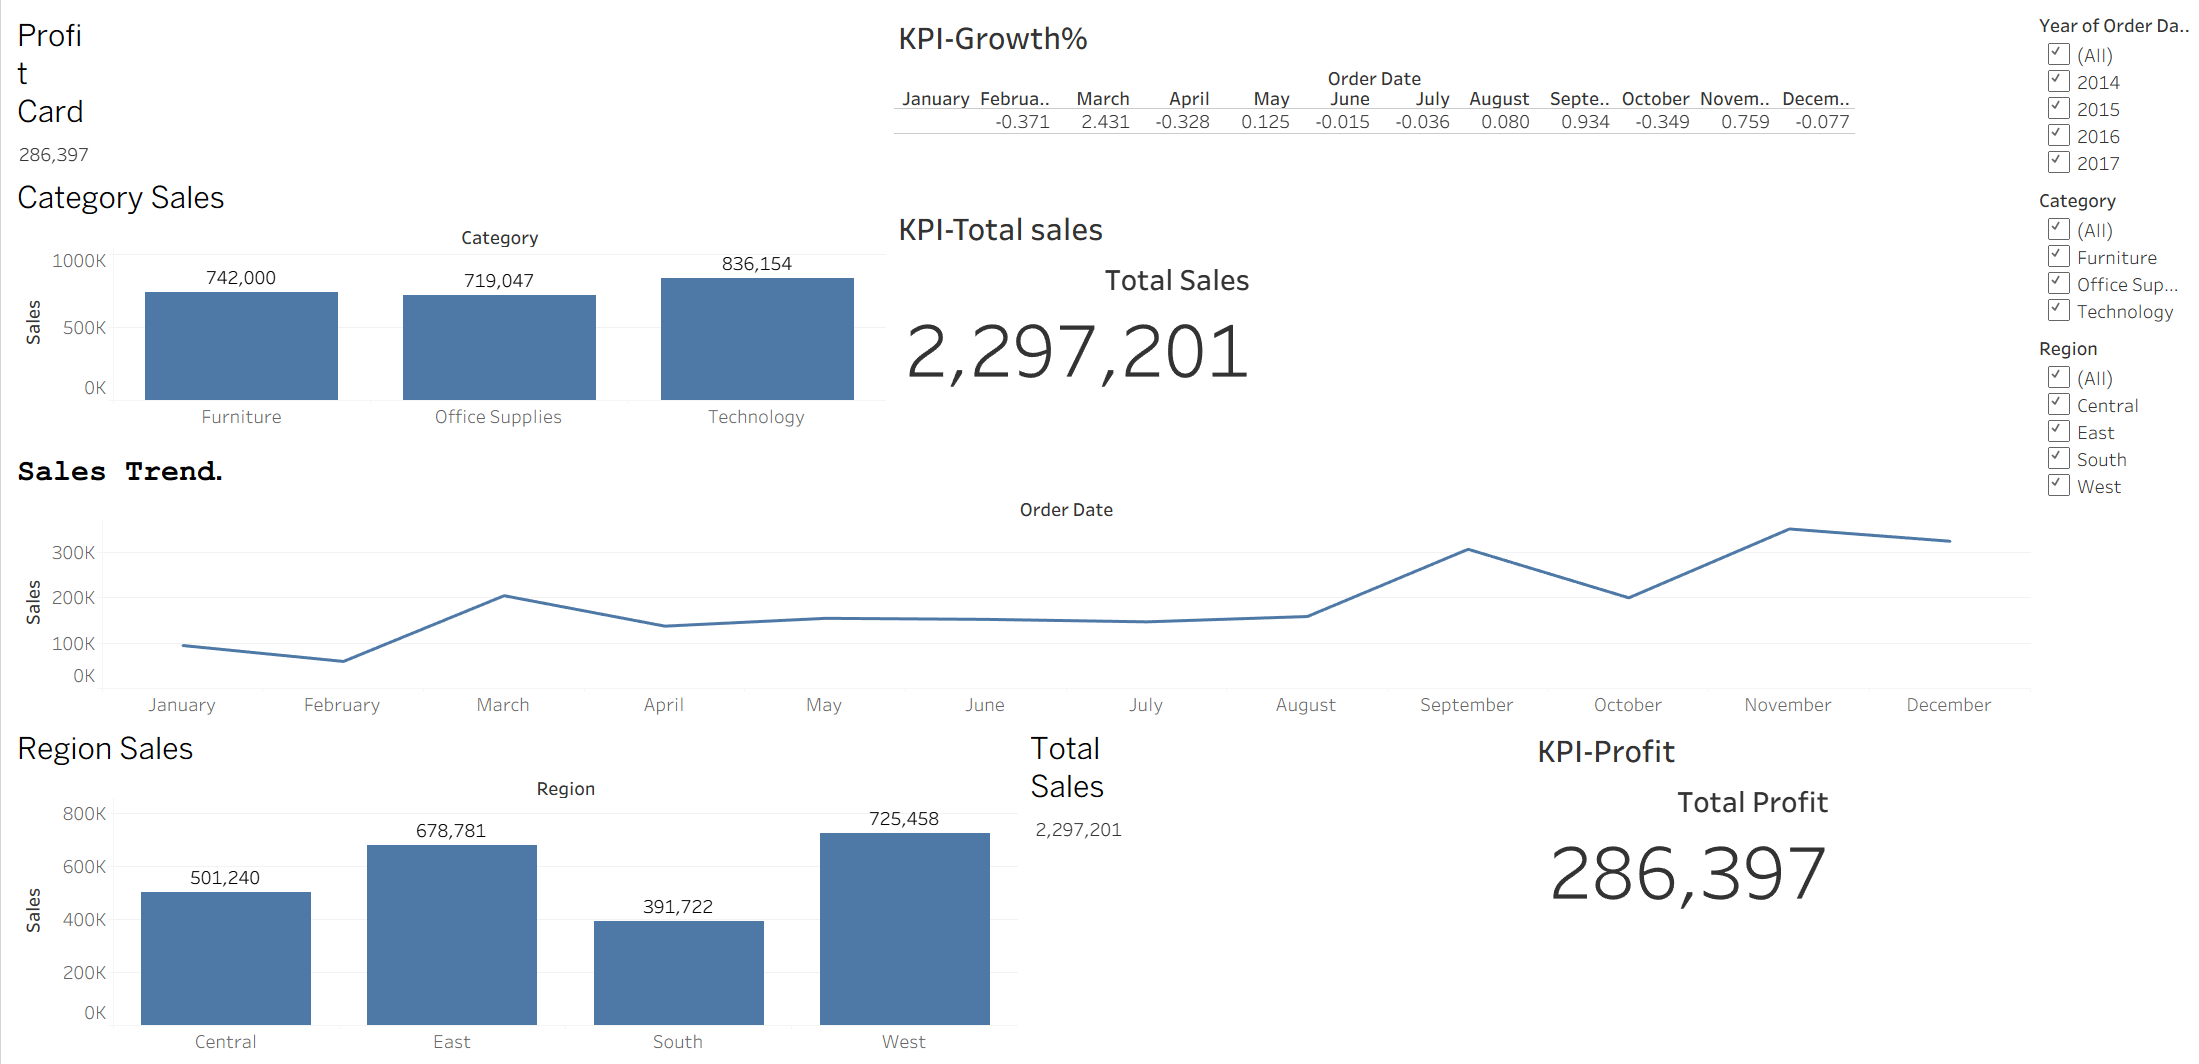

This screenshot's page, from the dashboard's own definition file:
{"tool":"tableau","page":{"name":"Dashboard 1","canvas":[1000,1000],"units":"permille","ordinal":0},"visuals":[{"type":"worksheet","title":"Sheet 5","mark":"Bar","rows":["Sales"],"cols":["Category"],"box":[4.2,7.5,395,409]},{"type":"worksheet","title":"Sheet 9","mark":"Text","cols":["Order Date"],"box":[399.2,7.5,513.5,179.2]},{"type":"filter","title":"Sheet 5","param":"[federated.0jqh8wv0g9wu4t16oy3xy1vdedwy].[yr:Order Date:ok]","box":[912.7,7.5,83.2,164.2]},{"type":"filter","title":"Sheet 5","param":"[federated.0jqh8wv0g9wu4t16oy3xy1vdedwy].[none:Category:nk]","box":[912.7,171.7,83.2,138.8]},{"type":"worksheet","title":"Sheet 7","mark":"Text","box":[399.2,186.7,256.8,229.8]},{"type":"worksheet","title":"Sheet 2","mark":"Automatic","box":[655.9,186.7,256.8,229.8]},{"type":"filter","title":"Sheet 6","param":"[federated.0jqh8wv0g9wu4t16oy3xy1vdedwy].[none:Region:nk]","box":[912.7,310.5,83.2,164.2]},{"type":"worksheet","title":"Sheet 4","mark":"Line","rows":["Sales"],"cols":["Order Date"],"box":[4.2,416.5,908.5,259.9]},{"type":"worksheet","title":"Sheet 6","mark":"Bar","rows":["Sales"],"cols":["Region"],"box":[4.2,676.4,454.3,316.1]},{"type":"worksheet","title":"Sheet 1","mark":"Automatic","box":[458.4,676.4,227.1,316.1]},{"type":"worksheet","title":"Sheet 8","mark":"Text","box":[685.6,676.4,227.1,316.1]}]}

Visuals, with their boxes on the dashboard's canvas, which has no fixed pixel size, in thousandths of its width and height (x1, y1, x2, y2). These are canvas units, not pixel positions in the 2199x1064 screenshot, which may show the page scaled, cropped or inside an application window:
"Sheet 5" worksheet (Bar marks): {"left": 4, "top": 8, "right": 399, "bottom": 416}
"Sheet 9" worksheet (Text marks): {"left": 399, "top": 8, "right": 913, "bottom": 187}
"Sheet 5" filter: {"left": 913, "top": 8, "right": 996, "bottom": 172}
"Sheet 5" filter: {"left": 913, "top": 172, "right": 996, "bottom": 310}
"Sheet 7" worksheet (Text marks): {"left": 399, "top": 187, "right": 656, "bottom": 416}
"Sheet 2" worksheet: {"left": 656, "top": 187, "right": 913, "bottom": 416}
"Sheet 6" filter: {"left": 913, "top": 310, "right": 996, "bottom": 475}
"Sheet 4" worksheet (Line marks): {"left": 4, "top": 416, "right": 913, "bottom": 676}
"Sheet 6" worksheet (Bar marks): {"left": 4, "top": 676, "right": 458, "bottom": 992}
"Sheet 1" worksheet: {"left": 458, "top": 676, "right": 686, "bottom": 992}
"Sheet 8" worksheet (Text marks): {"left": 686, "top": 676, "right": 913, "bottom": 992}
